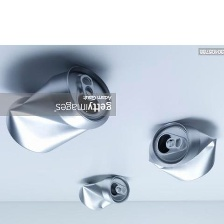can: (4, 65, 113, 155), (145, 119, 217, 184), (77, 173, 131, 211)
